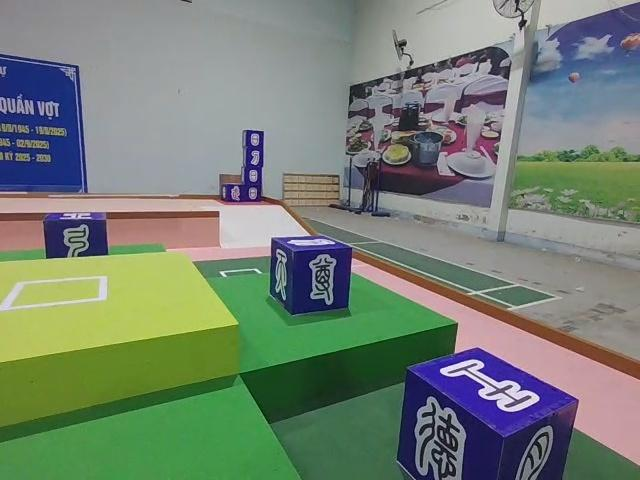R2 Fake Blue: (400, 350, 578, 480), (268, 236, 351, 317), (43, 210, 109, 259)
